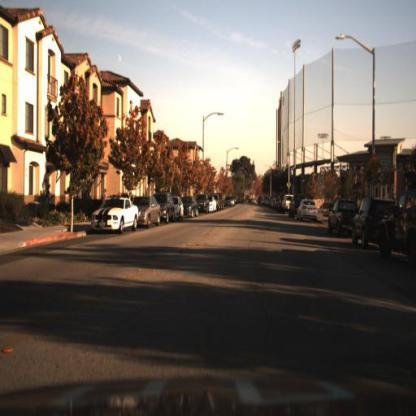car: (379, 183, 415, 264), (352, 196, 402, 249), (90, 198, 138, 235), (323, 198, 360, 241), (133, 193, 163, 230), (136, 196, 163, 230), (297, 200, 322, 226), (157, 188, 175, 224), (181, 195, 200, 220), (172, 197, 185, 222), (197, 195, 210, 220), (207, 194, 219, 215)
pedestrian: (101, 185, 111, 210)
